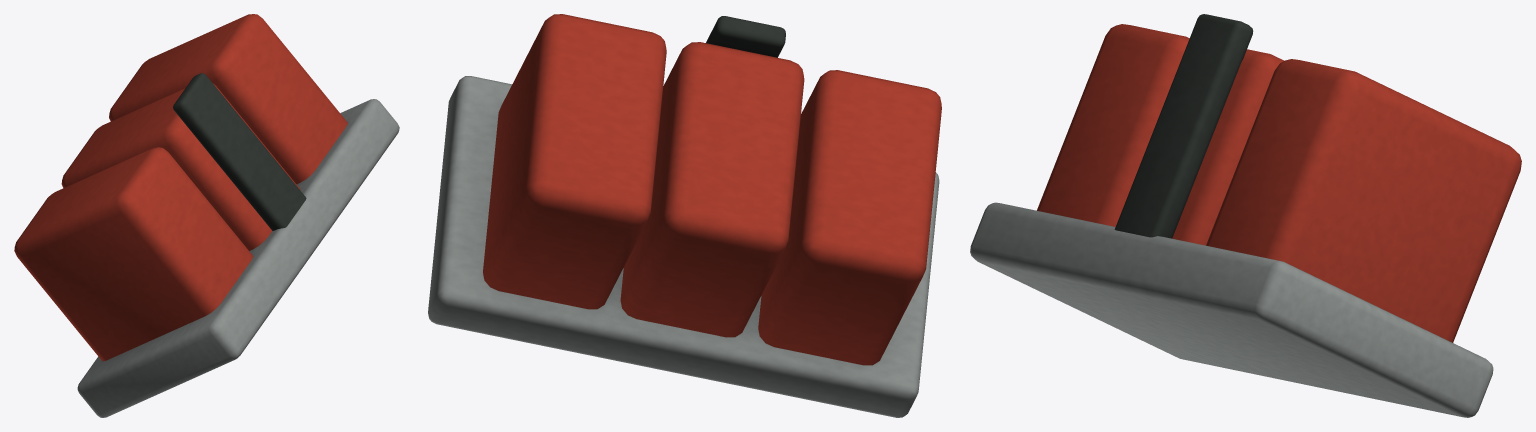
The picture shows the model from 3 angles, left to right: view 1: azimuth 30°, elevation 25°; view 2: azimuth 150°, elevation 25°; view 3: azimuth 270°, elevation 25°; orthographic projection. The views are drawn at different scales.
Visible parts, largest first — view 1: Protective explosive carrier; view 2: Protective explosive carrier; view 3: Protective explosive carrier.
Boxes of the visible parts, bbox=[...] form: Protective explosive carrier: bbox=[14, 14, 399, 417]; Protective explosive carrier: bbox=[428, 14, 941, 417]; Protective explosive carrier: bbox=[970, 14, 1521, 417].
Bounding box in the file's own units: 1.24 × 0.9692 × 1.13.
1 material, 1 textured.
